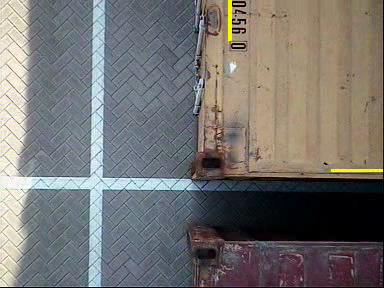groundmarker_2: (147, 85, 265, 152)
